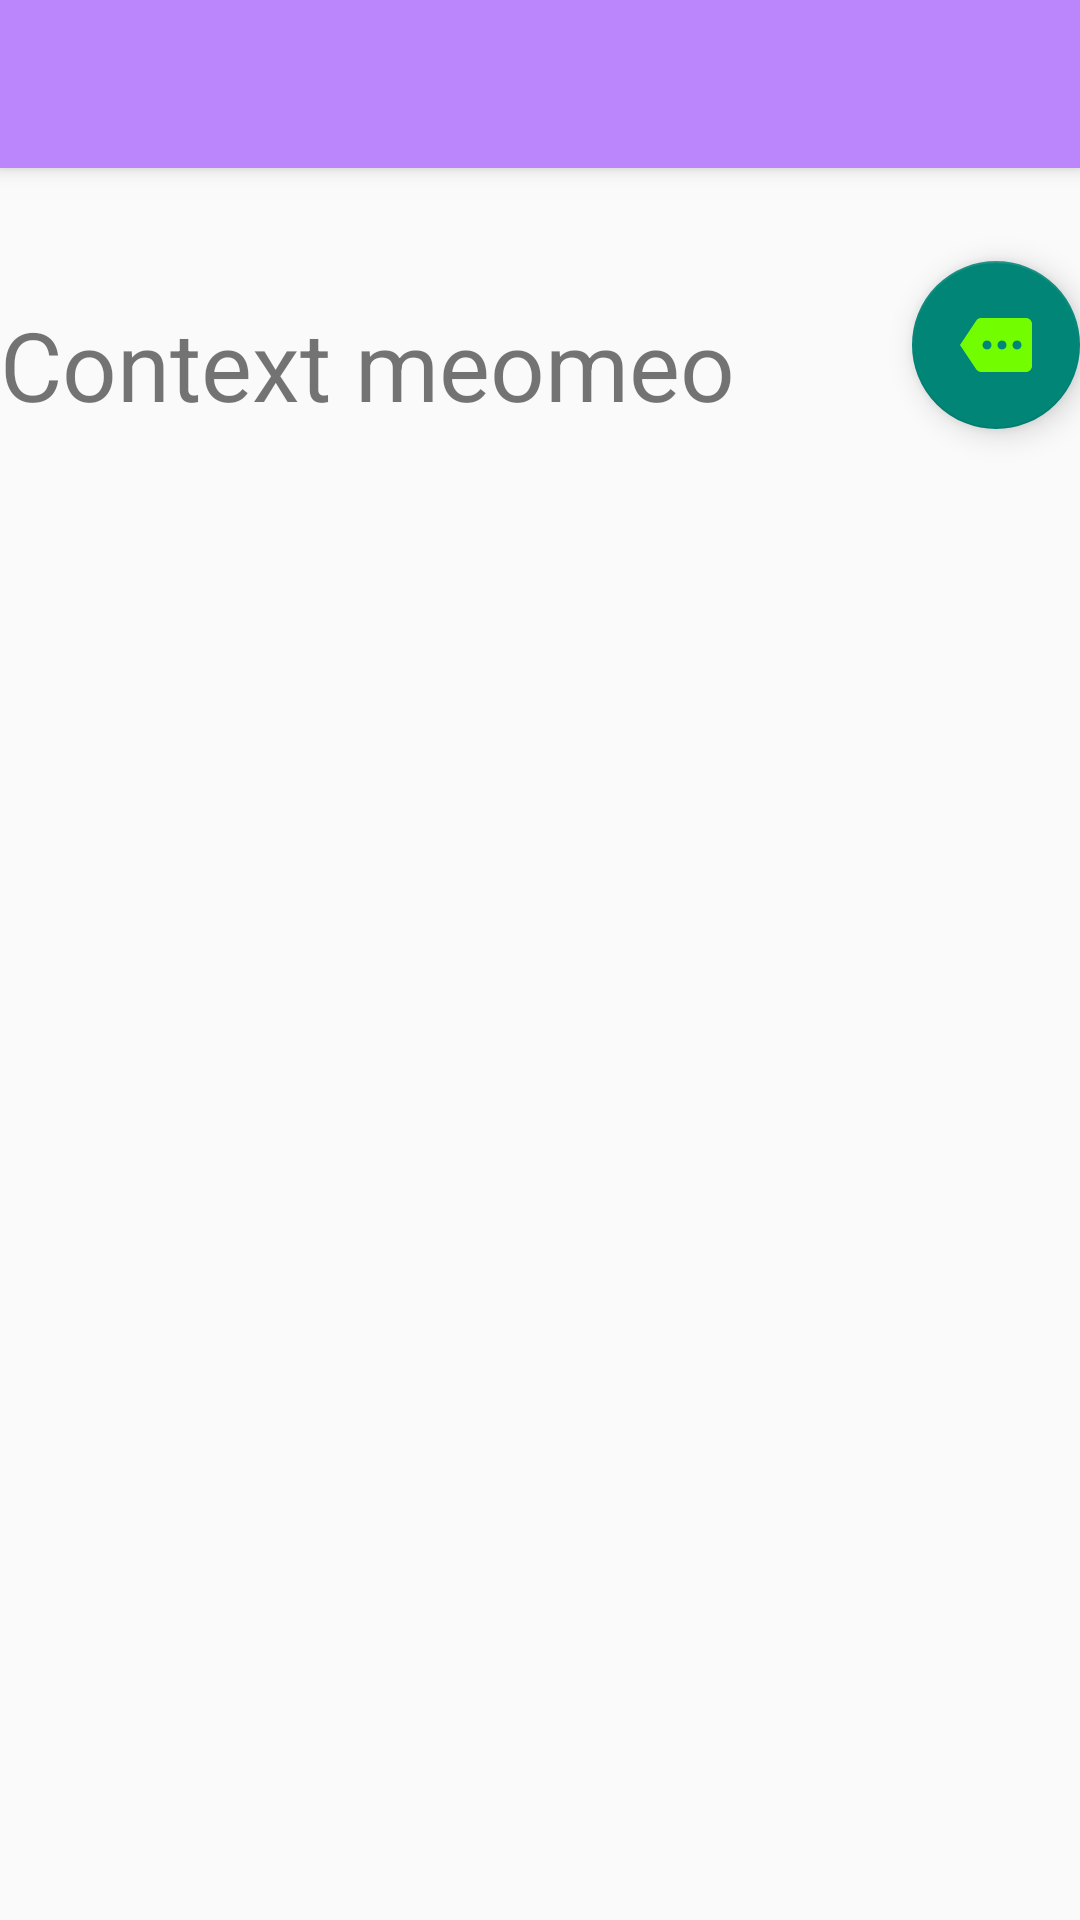

Icons on this 1080 × 1920 Android screen, each with its box as (x1, y1, x2, y2):
more: (912, 261, 1080, 429)
